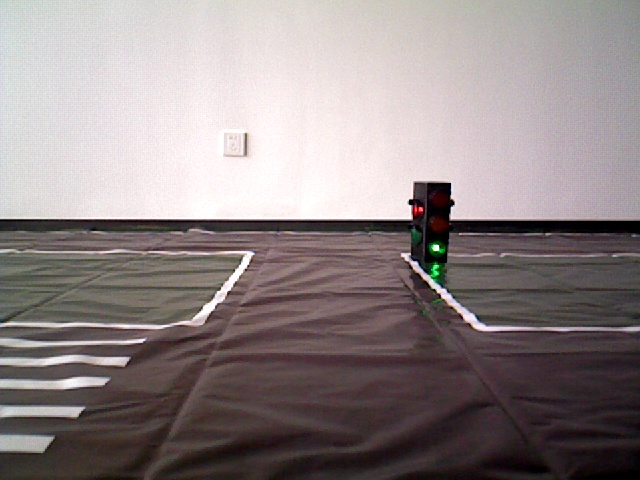green: (414, 178, 451, 258)
